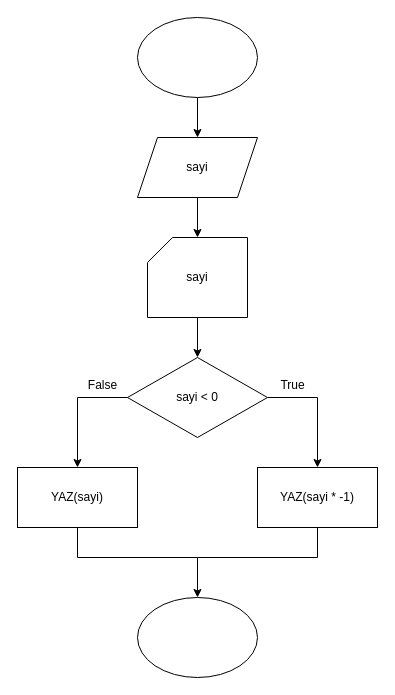
The diagram is 395 pixels wide and 695 high, and some of its shapes have lost their labels. The centre of each missing label's shape, as x and y in pixels:
"START" belongs at (197,57).
"STOP" belongs at (197,637).
